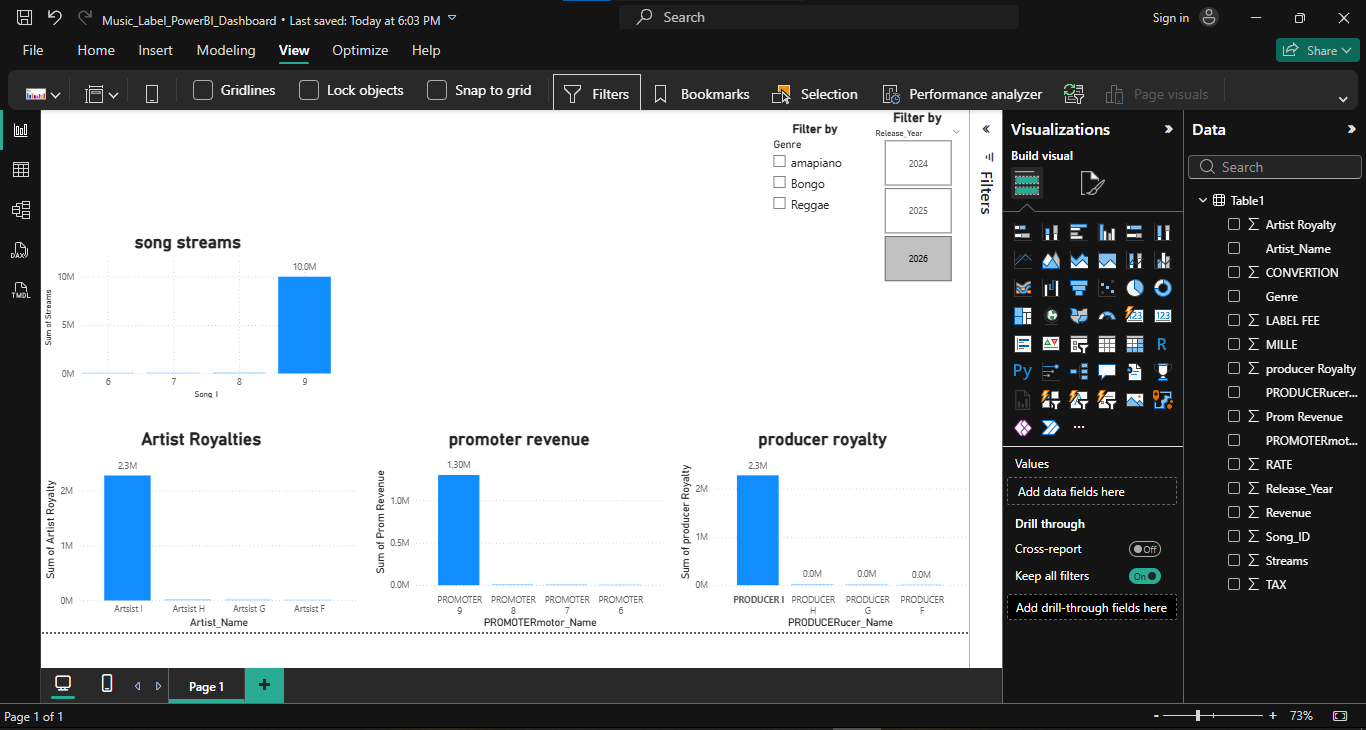

What the dashboard file says about the page in this screenshot:
{"tool":"powerbi","page":{"name":"Page 1","canvas":[1280,720],"ordinal":0},"visuals":[{"type":"clusteredColumnChart","title":"song streams","fields":{"Category":["Table1.Song_ID"],"Y":["Sum(Table1.Streams)"]},"box":[0,167.9,404.6,234],"z":0},{"type":"slicer","title":"Filter by","fields":{"Values":["Table1.Genre"]},"box":[997.2,15.2,140.7,191.7],"z":2000},{"type":"clusteredColumnChart","title":"Artist Royalties","fields":{"Category":["Table1.Artist_Name"],"Y":["Sum(Table1.Artist Royalty)"]},"box":[0,440.4,441.8,279.4],"z":3000},{"type":"clusteredColumnChart","title":"producer royalty","fields":{"Category":["Table1.PRODUCERucer_Name"],"Y":["Sum(Table1.producer Royalty)"]},"box":[875.4,440.4,404.6,279.4],"z":4000},{"type":"clusteredColumnChart","title":"promoter revenue","fields":{"Category":["Table1.PROMOTERmotor_Name"],"Y":["Sum(Table1.Prom Revenue )"]},"box":[455.6,440.4,408.8,279.4],"z":5000},{"type":"slicer","title":"Filter by","fields":{"Values":["Table1.Release_Year"]},"box":[1137.9,0,142.1,242.8],"z":5001}]}

Visuals, with their boxes on the page's 1280x720 design canvas (x1, y1, x2, y2). These are canvas units, not pixel positions in the 1366x730 screenshot, which may show the page scaled, cropped or inside an application window:
"song streams" clusteredColumnChart: x1=0, y1=168, x2=405, y2=402
"Filter by" slicer: x1=997, y1=15, x2=1138, y2=207
"Artist Royalties" clusteredColumnChart: x1=0, y1=440, x2=442, y2=720
"producer royalty" clusteredColumnChart: x1=875, y1=440, x2=1280, y2=720
"promoter revenue" clusteredColumnChart: x1=456, y1=440, x2=864, y2=720
"Filter by" slicer: x1=1138, y1=0, x2=1280, y2=243
